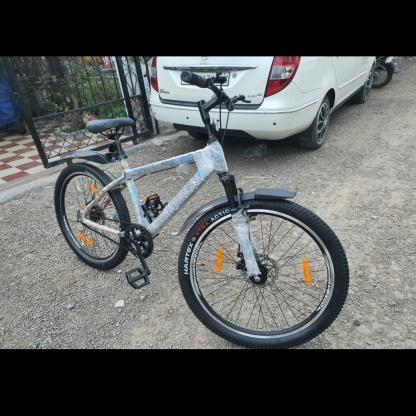bicycle: (39, 68, 360, 348)
